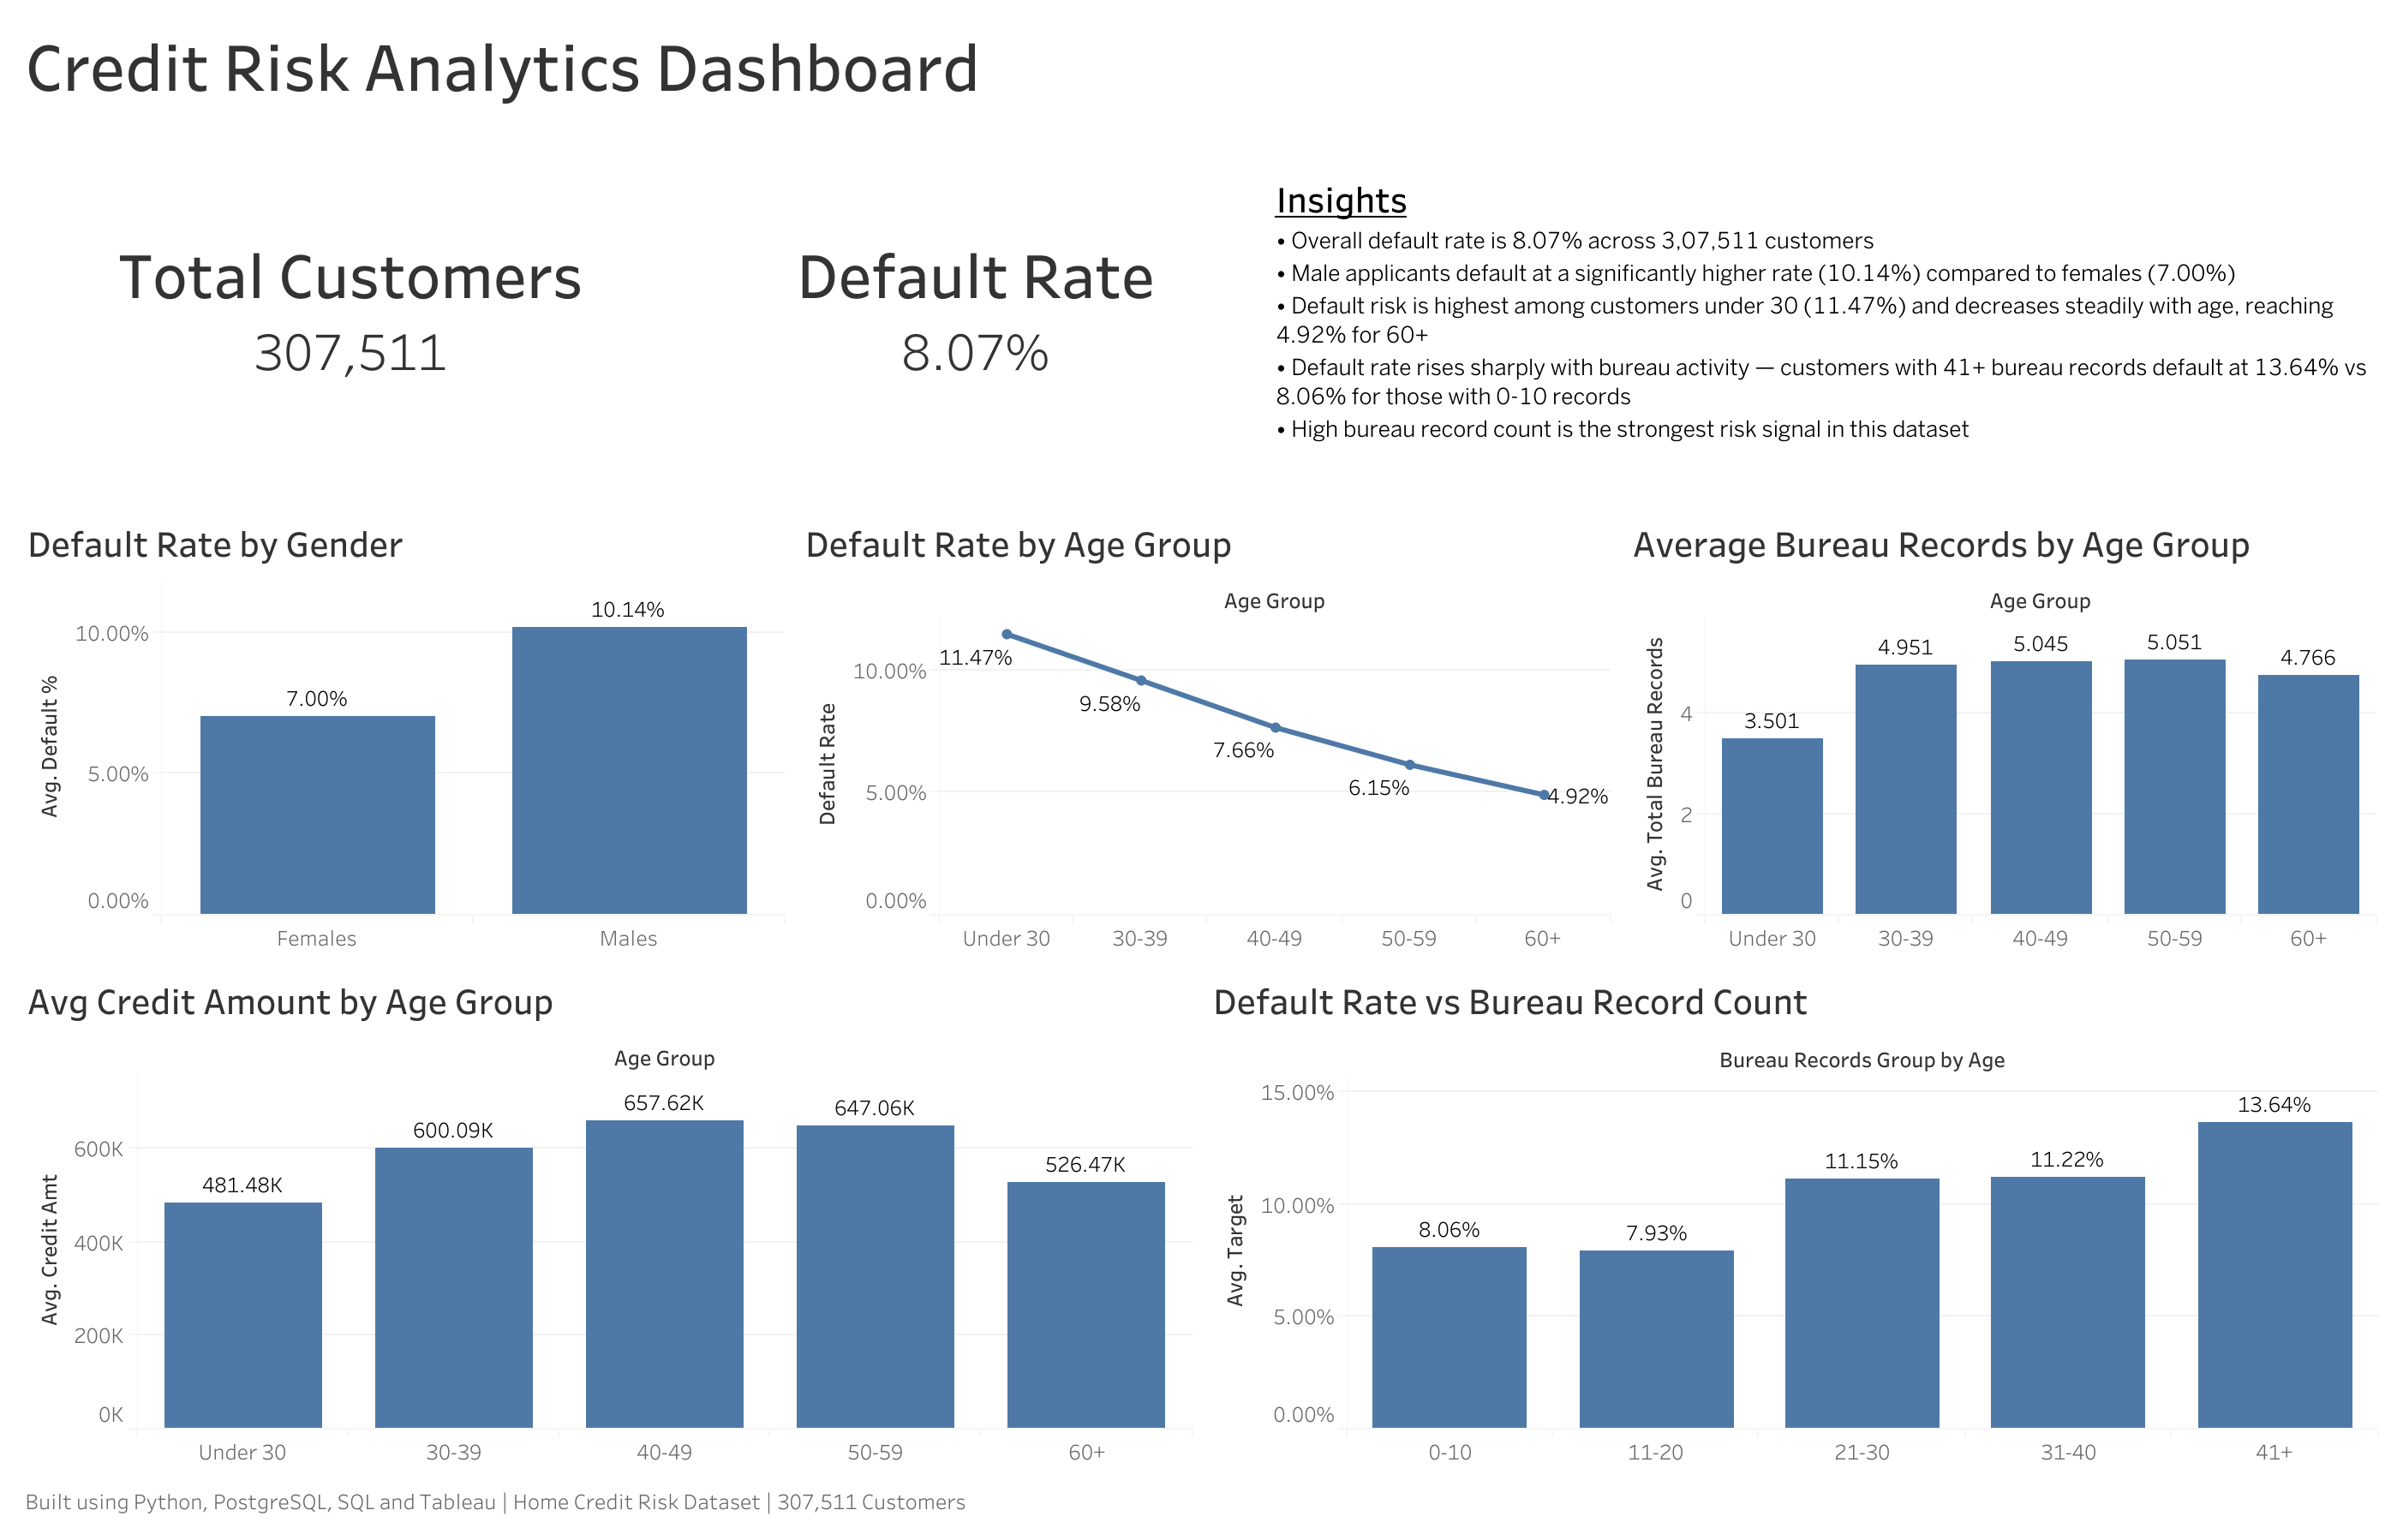

What the dashboard file says about the page in this screenshot:
{"tool":"tableau","page":{"name":"Credit Risk Analytics Dashboard","canvas":[1400,900],"ordinal":0},"visuals":[{"type":"title","box":[8,8,1384,59]},{"type":"worksheet","title":"Total customers","mark":"Automatic","box":[8,67,393.6,225.1]},{"type":"worksheet","title":"Default Rate","mark":"Automatic","box":[401.6,67,336,225.1]},{"type":"text","box":[737.6,67,654.4,225.1]},{"type":"worksheet","title":"Default Rate by Gender","mark":"Bar","rows":["target"],"cols":["code_gender"],"box":[8,292.1,454,267.2]},{"type":"worksheet","title":"Default Rate by Age Group","mark":"Line","rows":["target"],"cols":["Calculation_0199293979594753"],"box":[462,292.1,483,267.2]},{"type":"worksheet","title":"Average Bureau Records by Age Group","mark":"Automatic","rows":["total_bureau_records"],"cols":["Calculation_0199293979594753"],"box":[945,292.1,447,267.2]},{"type":"worksheet","title":"Avg Credit Amount by Age Group","mark":"Bar","rows":["amt_credit"],"cols":["Calculation_0199293979594753"],"box":[8,559.3,692,300.7]},{"type":"worksheet","title":"Default Rate vs Bureau Record Count","mark":"Automatic","rows":["target"],"cols":["Calculation_0199294034452482"],"box":[700,559.3,692,300.7]},{"type":"text","box":[8,860,1384,32]}]}

Visuals, with their boxes in screenshot pixels (x1, y1, x2, y2), scaled from the page's 1400x900 canvas onto the 2397x1540 screenshot:
title: BBox(14, 14, 2383, 115)
"Total customers" worksheet: BBox(14, 115, 688, 500)
"Default Rate" worksheet: BBox(688, 115, 1263, 500)
text: BBox(1263, 115, 2383, 500)
"Default Rate by Gender" worksheet (Bar marks): BBox(14, 500, 791, 957)
"Default Rate by Age Group" worksheet (Line marks): BBox(791, 500, 1618, 957)
"Average Bureau Records by Age Group" worksheet: BBox(1618, 500, 2383, 957)
"Avg Credit Amount by Age Group" worksheet (Bar marks): BBox(14, 957, 1198, 1471)
"Default Rate vs Bureau Record Count" worksheet: BBox(1198, 957, 2383, 1471)
text: BBox(14, 1471, 2383, 1526)
